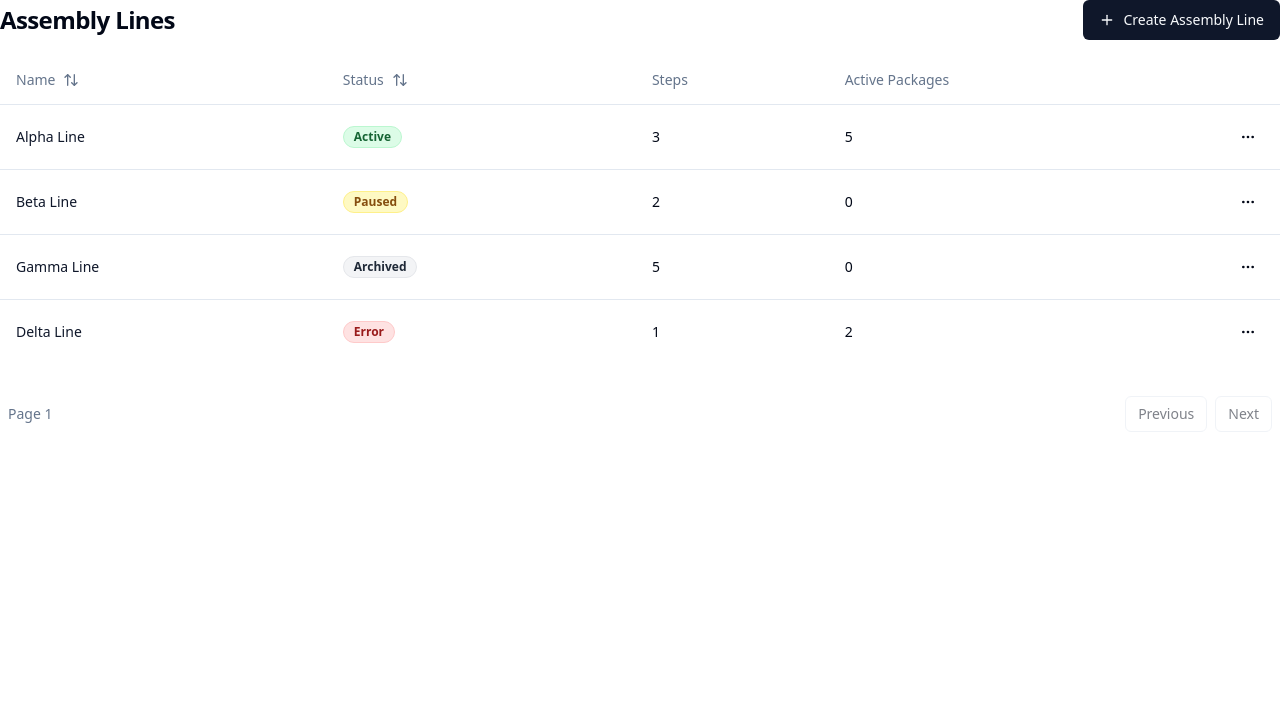
AssemblyLineListPage › Confirmation dialog › opens a confirmation dialog when Pause is clicked
Expected: the link "Alpha Line" is shown, [16,126,85,146]
Step 1. Click the button named "Open actions for" in the row of "Alpha Line" → (1248, 136), box [1232,120,1264,152]
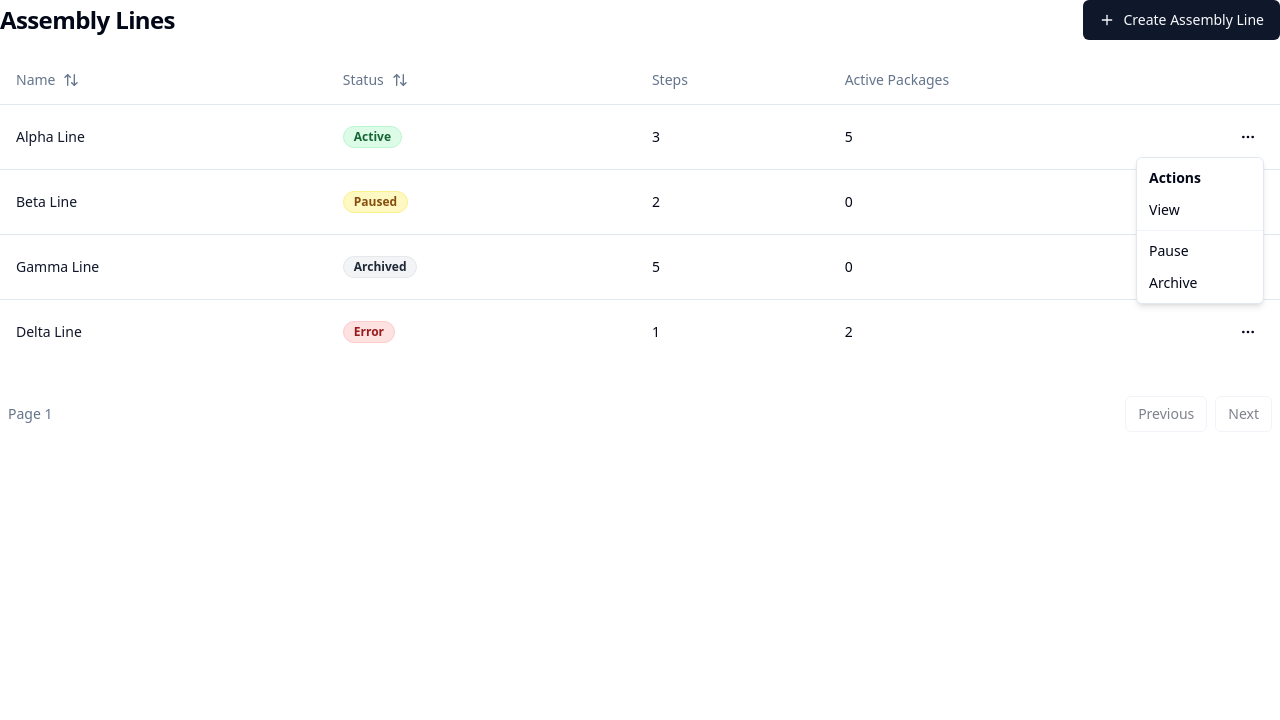
Step 2. Click the menu item "Pause" → (1169, 250), box [1149,241,1189,260]
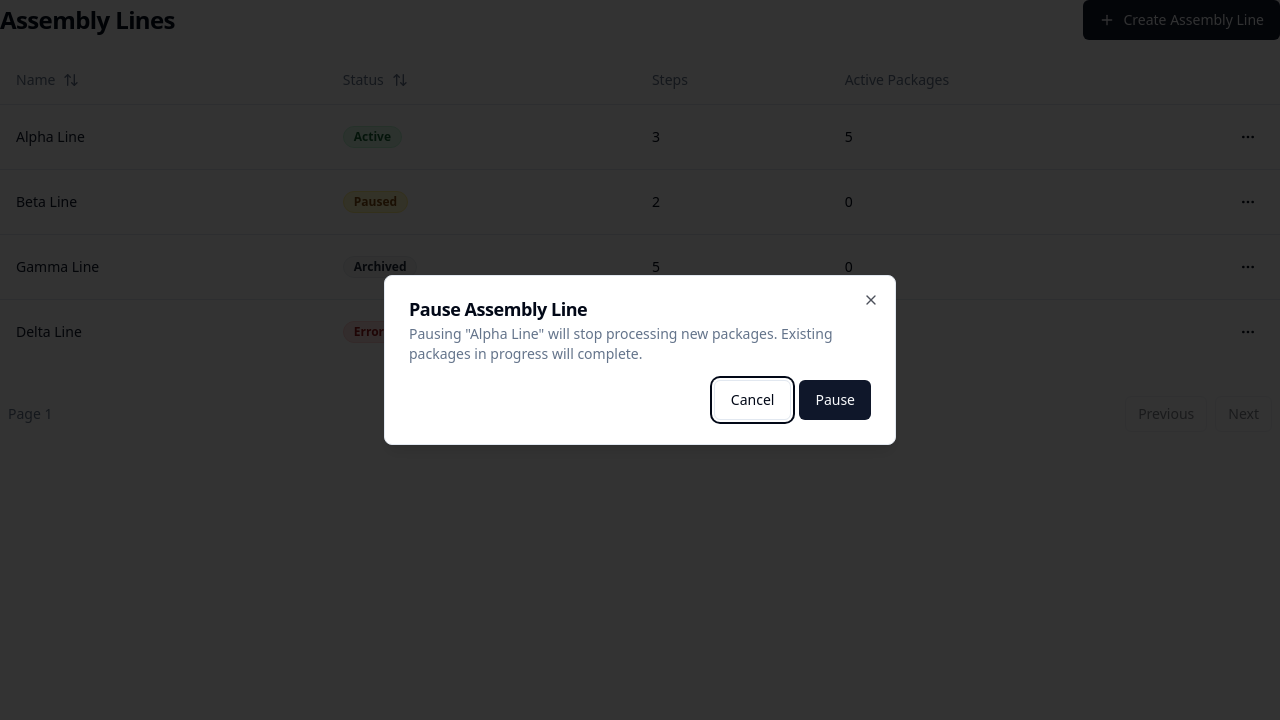
Expected: the heading "Pause Assembly Line" is shown, [409,297,587,321]
Expected: the text "will stop processing new packages" is shown, [409,324,832,363]
